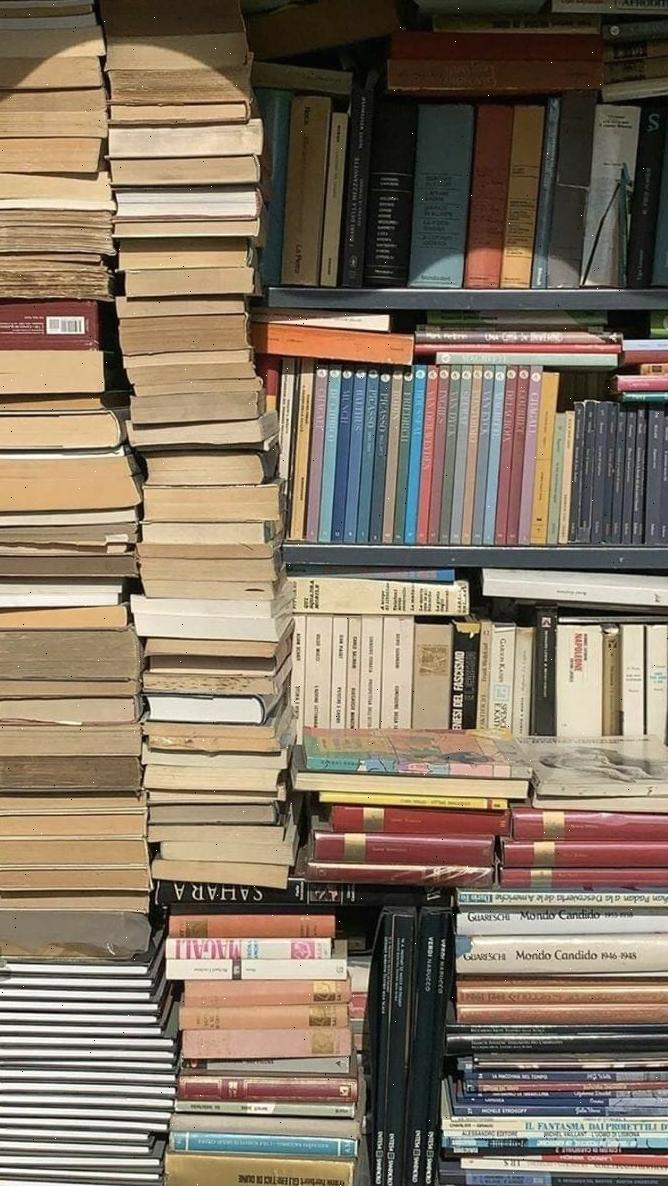book: (401, 906, 450, 1186), (368, 909, 414, 1186), (406, 105, 474, 288), (578, 102, 638, 287), (543, 95, 596, 287), (280, 93, 331, 284), (465, 107, 513, 286), (623, 101, 666, 288), (500, 105, 544, 287), (447, 904, 667, 937), (339, 79, 374, 285), (554, 620, 601, 735), (411, 621, 454, 731), (448, 889, 668, 909), (379, 619, 412, 731), (447, 617, 479, 730), (486, 621, 515, 736), (531, 607, 556, 736), (304, 618, 327, 733), (645, 623, 667, 739)
